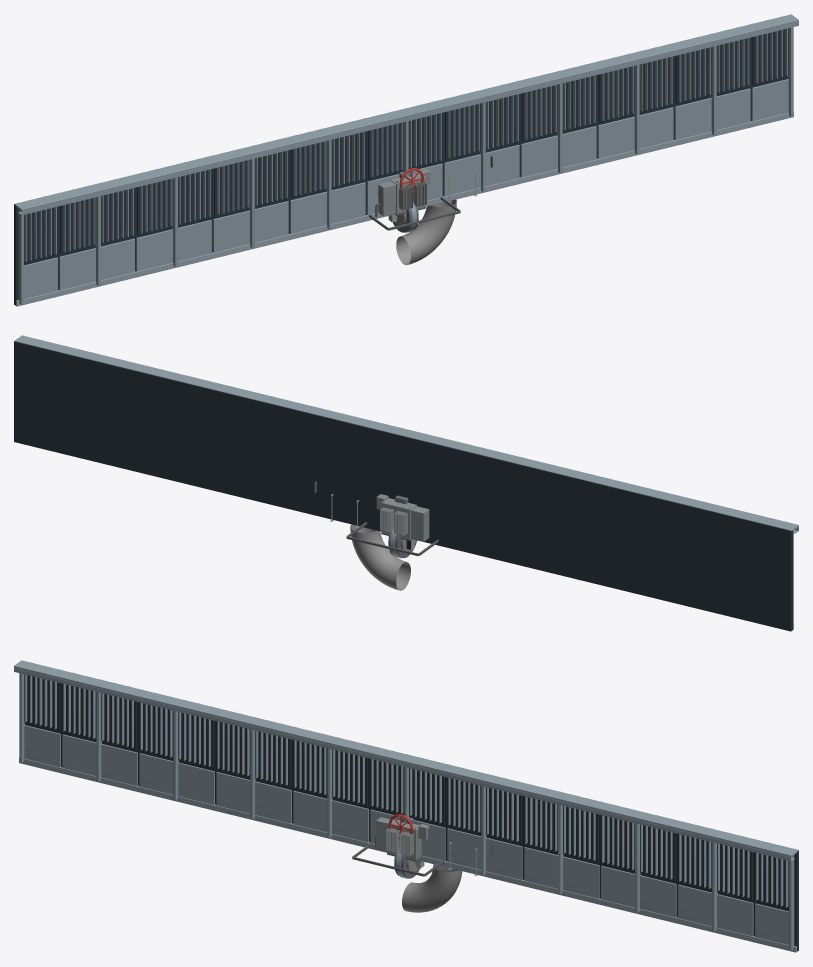
File: hall-finish.glb
3 renders of one model, top to bottom at view 1: azimuth 30°, elevation 25°; view 2: azimuth 150°, elevation 25°; view 3: azimuth 330°, elevation 25°, orthographic.
Visible parts, largest first — view 1: SERVICE_WALL Soft satin architectural panel, SERVICE_WALL Precision folded graphite, SERVICE_WALL Satin cabinet hardware, Long-radius 90 degree elbow, HALL_UNITSUB ANSI 61 grey enamel, HALL_UNITSUB ANSI 61 grey, shaded seams; view 2: SERVICE_WALL Precision folded graphite, SERVICE_WALL Soft satin architectural panel, Long-radius 90 degree elbow, HALL_UNITSUB ANSI 61 grey enamel; view 3: SERVICE_WALL Soft satin architectural panel, SERVICE_WALL Precision folded graphite, SERVICE_WALL Satin cabinet hardware, Long-radius 90 degree elbow, HALL_UNITSUB ANSI 61 grey enamel, HALL_UNITSUB ANSI 61 grey, shaded seams.
Part boxes in pixels (x1,y1,x2,y2): SERVICE_WALL Soft satin architectural panel: (14, 14, 798, 304); SERVICE_WALL Precision folded graphite: (14, 28, 788, 305); SERVICE_WALL Satin cabinet hardware: (16, 28, 793, 306); Long-radius 90 degree elbow: (396, 199, 456, 265); HALL_UNITSUB ANSI 61 grey enamel: (378, 169, 430, 216); HALL_UNITSUB ANSI 61 grey, shaded seams: (369, 156, 492, 230); SERVICE_WALL Precision folded graphite: (14, 341, 793, 631); SERVICE_WALL Soft satin architectural panel: (14, 335, 798, 623); Long-radius 90 degree elbow: (350, 524, 410, 590); HALL_UNITSUB ANSI 61 grey enamel: (376, 494, 429, 541); SERVICE_WALL Soft satin architectural panel: (14, 660, 798, 950); SERVICE_WALL Precision folded graphite: (24, 674, 798, 951); SERVICE_WALL Satin cabinet hardware: (19, 674, 796, 952); Long-radius 90 degree elbow: (402, 864, 462, 912); HALL_UNITSUB ANSI 61 grey enamel: (376, 817, 429, 859); HALL_UNITSUB ANSI 61 grey, shaded seams: (352, 828, 493, 876).
Bounding box in the file's own units: 60.6 × 11.53 × 5.72.
